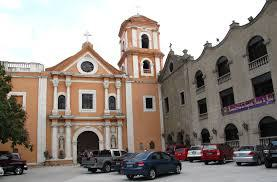San Agustin Church: (39, 6, 166, 157)
